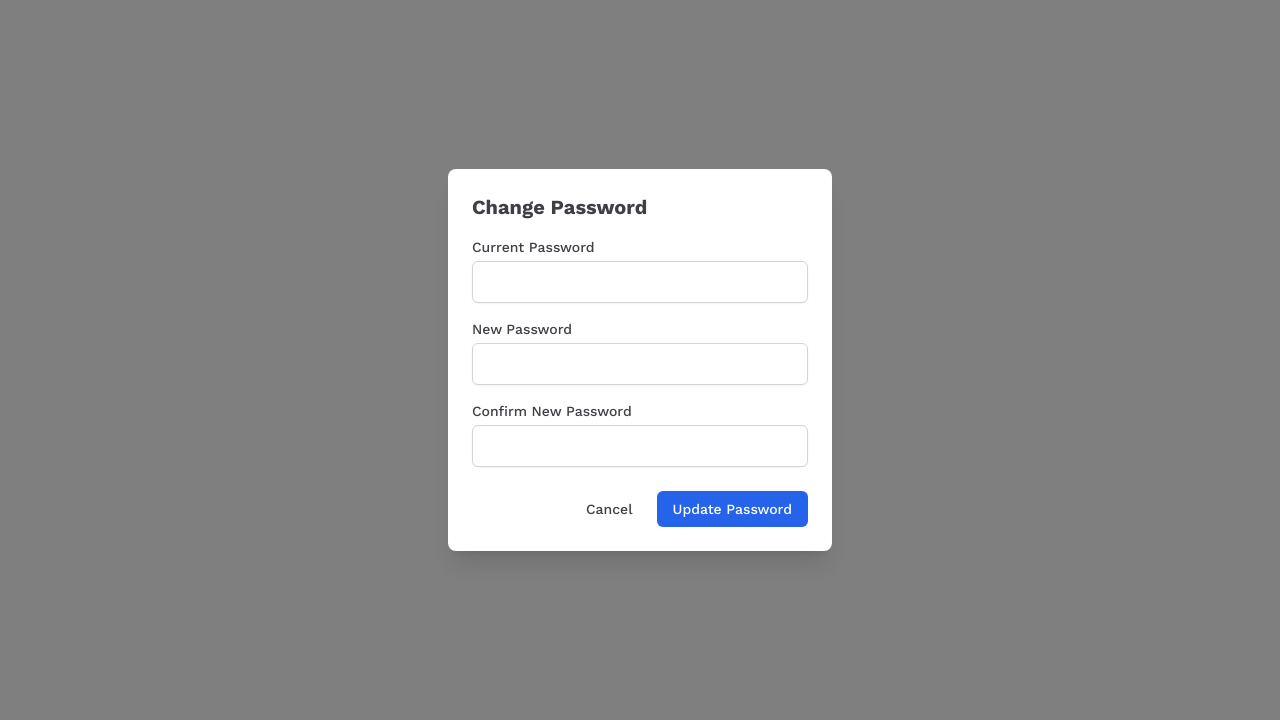
Test: PasswordChangeModal › validates minimum password length
Type "current123" into the password field below "Current Password" at (640, 282), box [472,261,808,303]
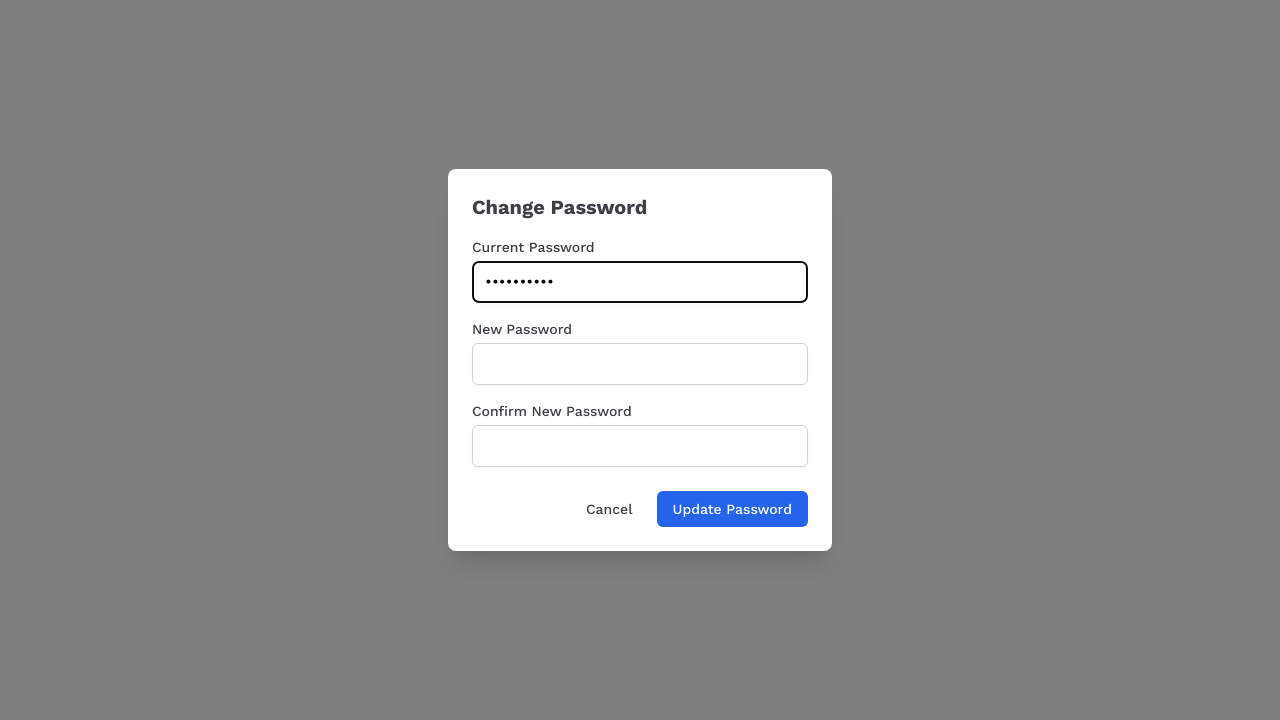
Type "12345" into the 2nd password field at (640, 364), box [472,343,808,385]
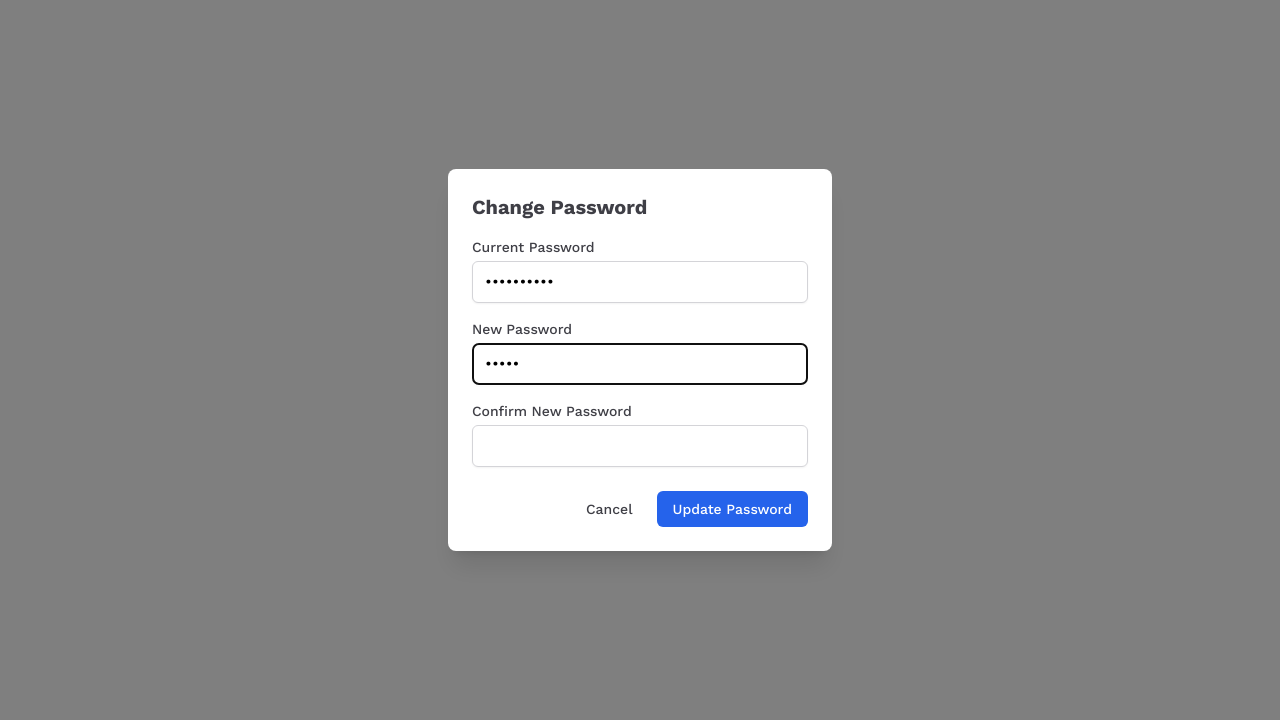
Type "12345" into the password field below "Confirm New Password" at (640, 446), box [472,425,808,467]
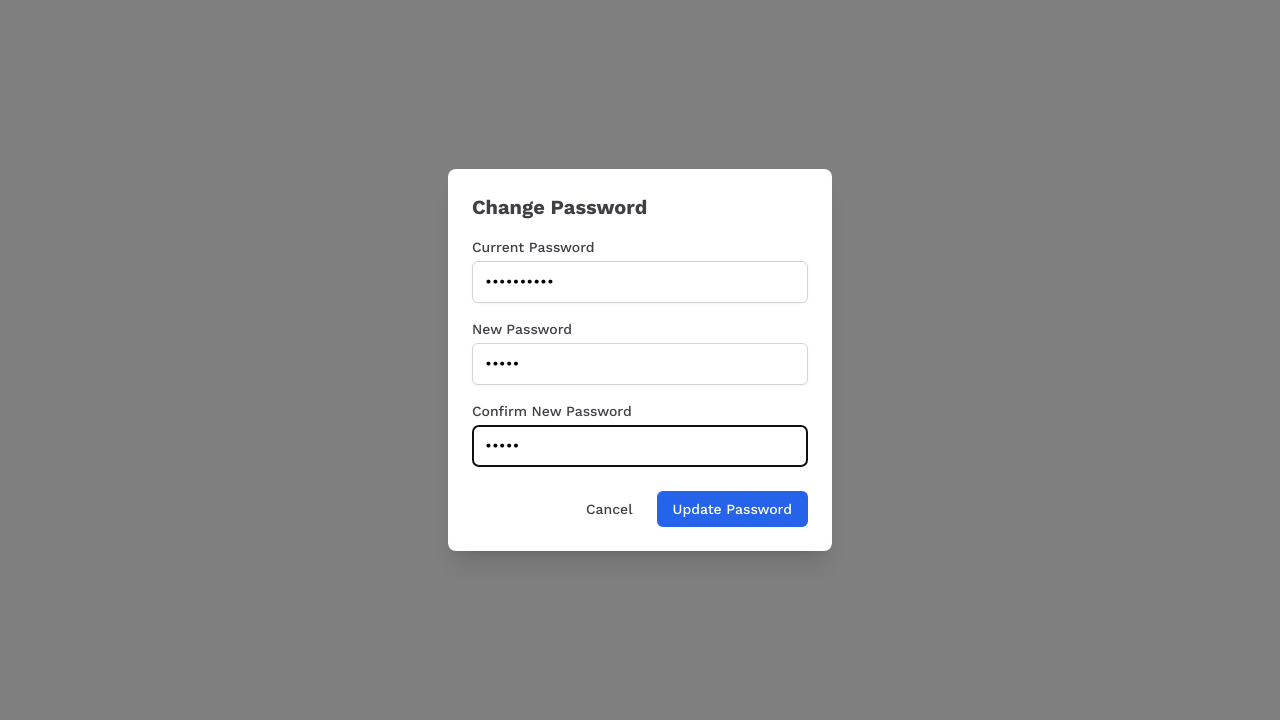
Click the button "Update Password" at (732, 509), box [656,491,808,527]
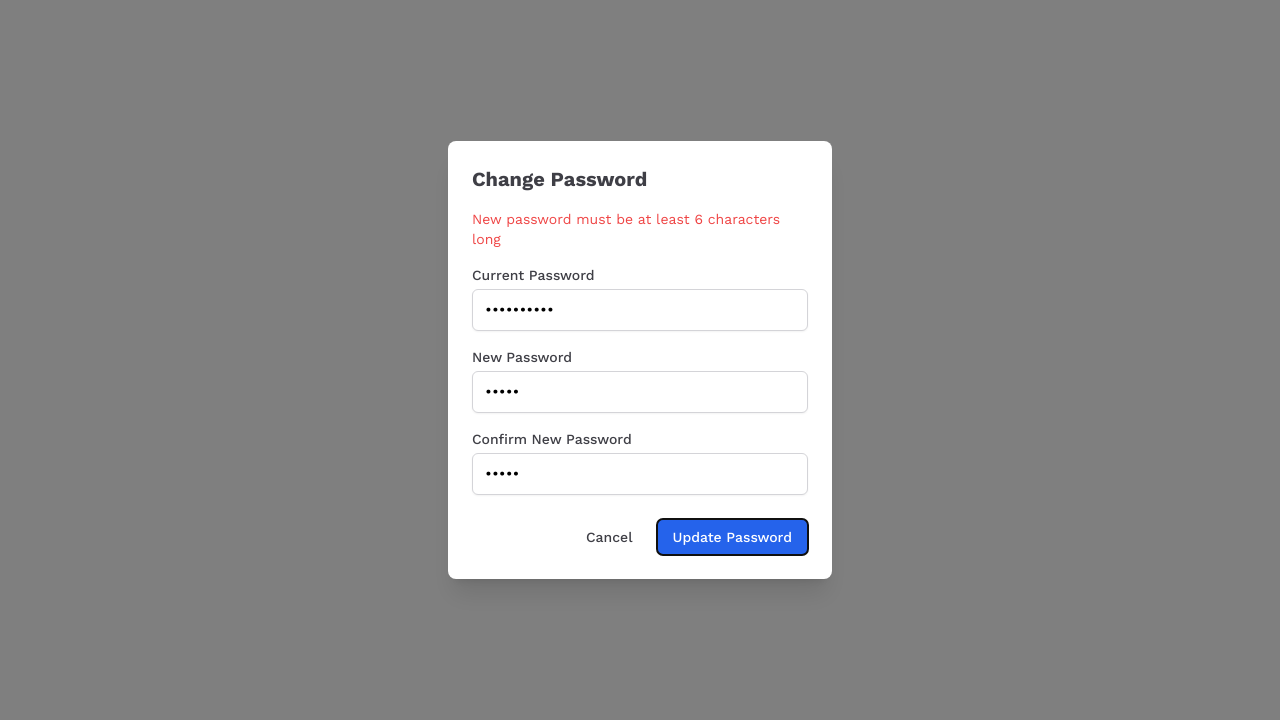
Check: the text "New password must be at least 6 characters long" is shown, box [472,209,808,249]
